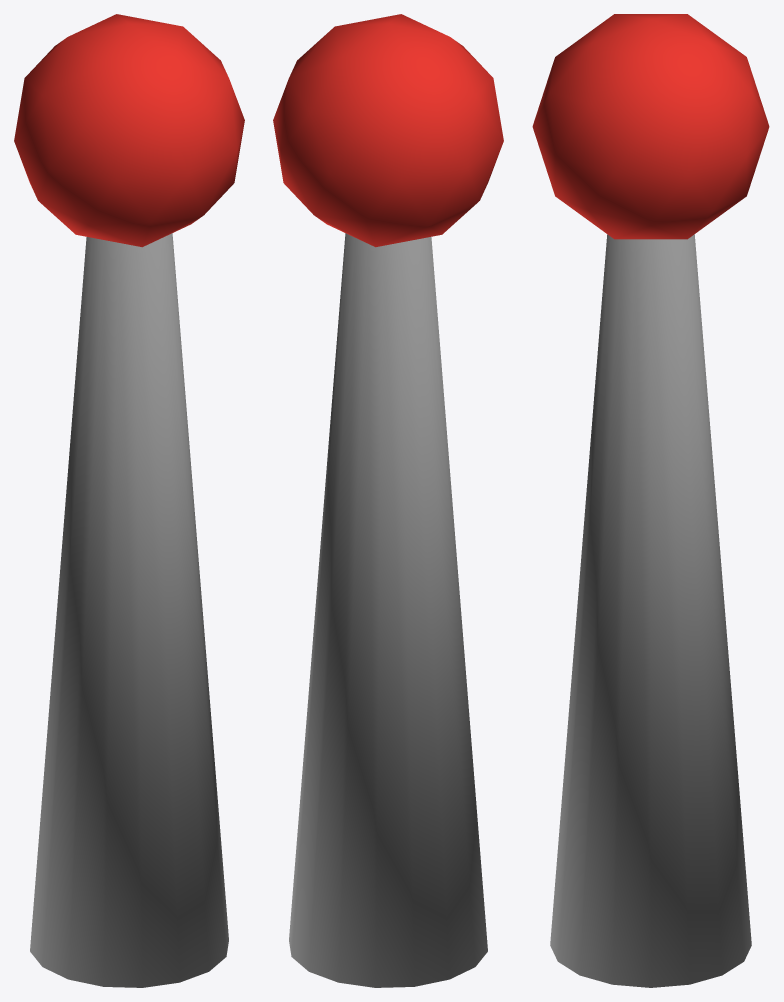
The model's file is antenna.fbx.
3 views of the same model, side by side, from view 1: azimuth 30°, elevation 25°; view 2: azimuth 150°, elevation 25°; view 3: azimuth 270°, elevation 25° (orthographic).
Visible parts, largest first — view 1: Antenna; view 2: Antenna; view 3: Antenna.
Boxes of the visible parts, box(x1,y1,x2,y2) form: Antenna: box(14, 14, 244, 987); Antenna: box(273, 14, 503, 987); Antenna: box(532, 14, 769, 987).
Size of the model in its own units: 7.64 by 34.62 by 8.03.
